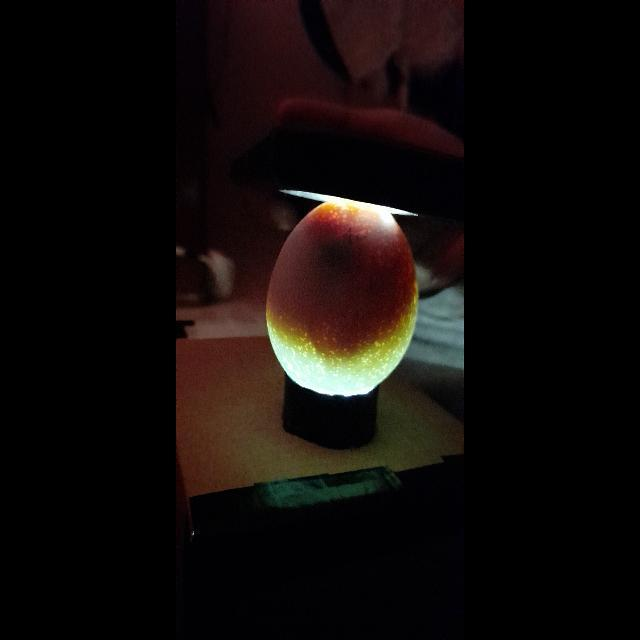Infertile: (268, 198, 418, 406)
